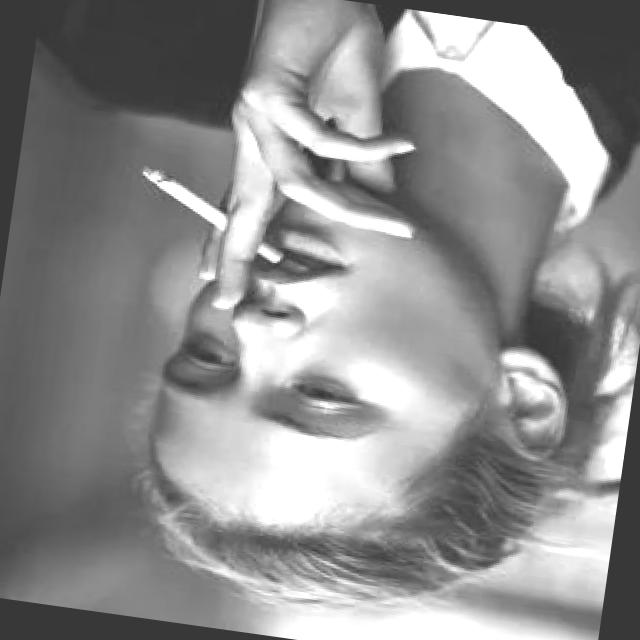smoke: (128, 161, 298, 265)
